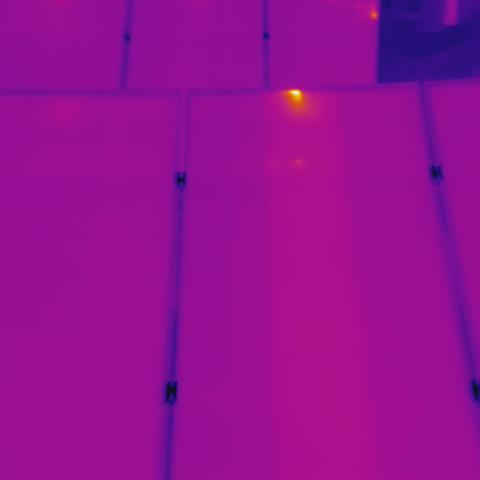fault: (284, 85, 312, 106)
